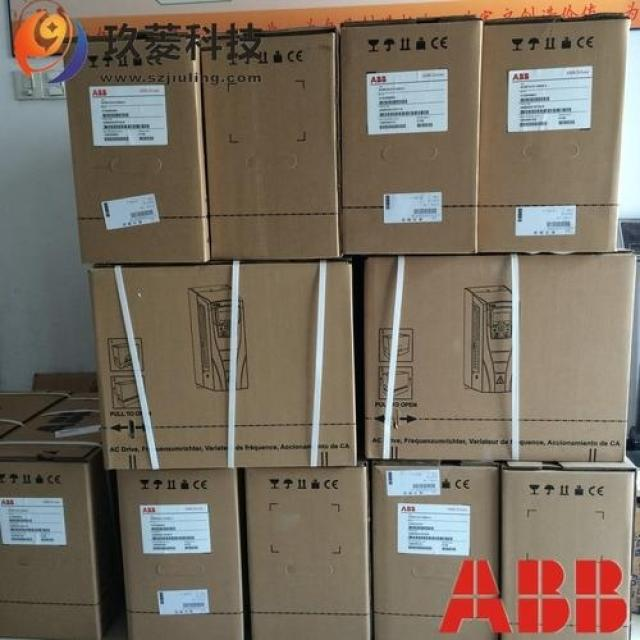box: (365, 251, 632, 465), (89, 261, 359, 467), (479, 15, 630, 252), (340, 19, 482, 256), (62, 39, 211, 263), (199, 27, 340, 260), (0, 391, 128, 638), (499, 459, 634, 639), (367, 464, 500, 639), (113, 469, 246, 639), (242, 469, 371, 639), (0, 389, 65, 433)
